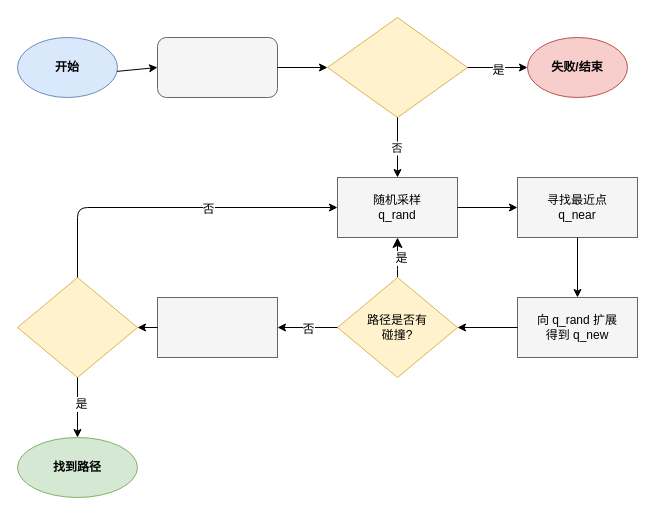
Image size: 655x515. Some labels were removed from this diagram. The centre of each missing label's shape, as x and y in pixels:
初始化树 T (包含起点 q_start): point 217,67
将 q_new 加至树 T 连接 q_near: point 217,327
是否到达目标 区域?: point 77,327
达到迭代限制 或找到终点?: point 397,67
